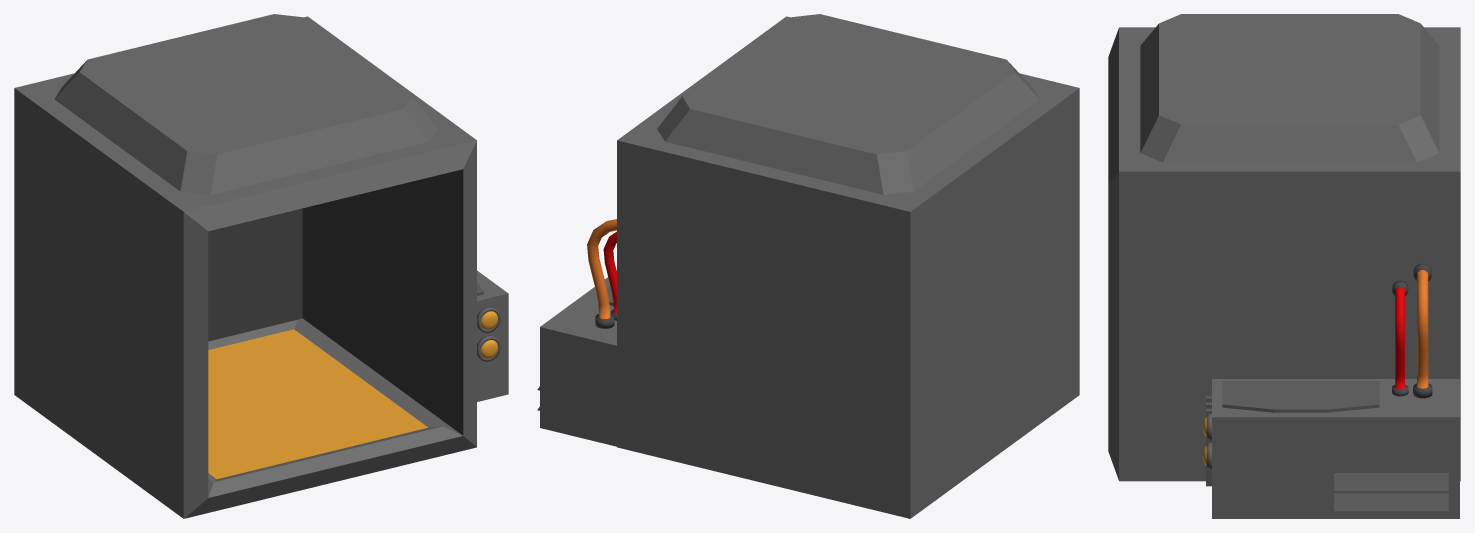
The model's file is printer.fbx.
3 renders of one model, left to right at view 1: azimuth 30°, elevation 25°; view 2: azimuth 150°, elevation 25°; view 3: azimuth 270°, elevation 25°, orthographic.
Parts seen in each view (by area): view 1: Printer; view 2: Printer; view 3: Printer.
Part boxes in pixels (x1=…): Printer: x1=14, y1=14, x2=508, y2=518; Printer: x1=537, y1=14, x2=1079, y2=518; Printer: x1=1108, y1=14, x2=1460, y2=518.
Bounding box in the file's own units: 37.77 × 30.15 × 32.08.
